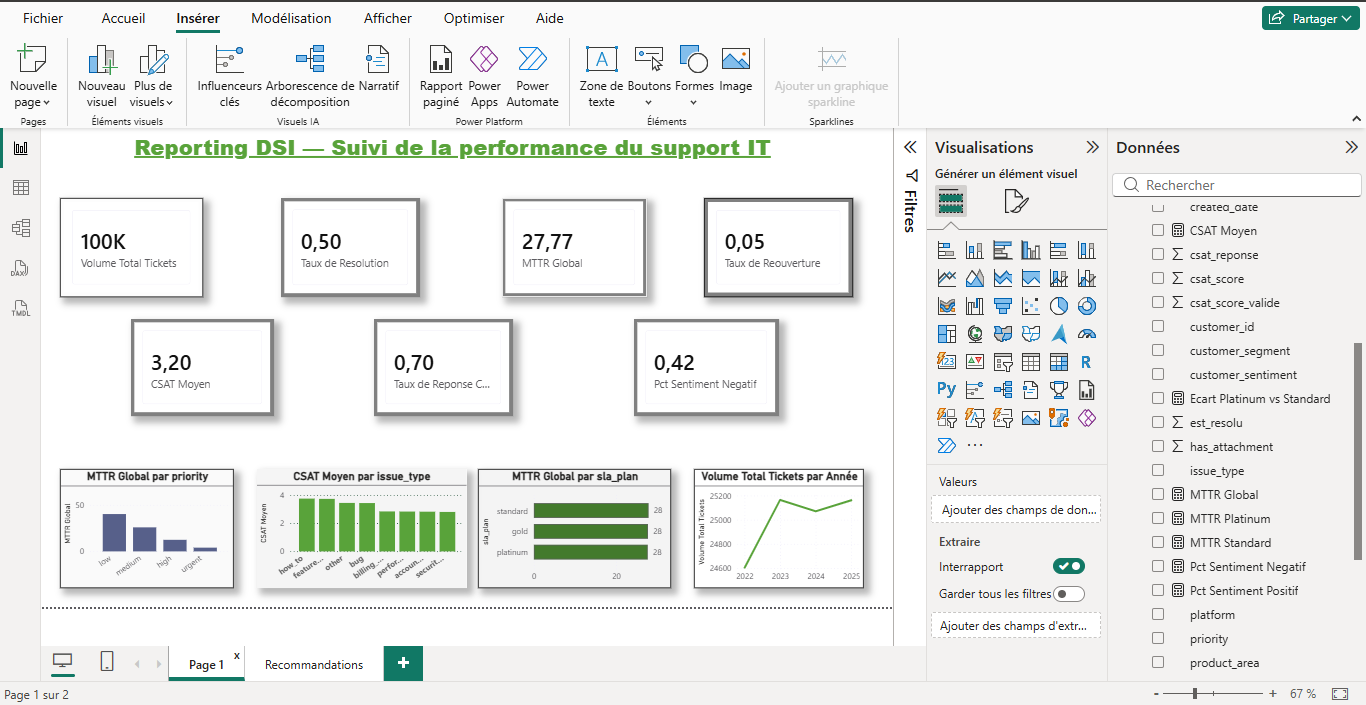

The page's visual inventory and layout, read from the dashboard file:
{"tool":"powerbi","page":{"name":"Page 1","canvas":[1280,720],"ordinal":0},"visuals":[{"type":"cardVisual","fields":{"Data":["Donnees.Volume Total Tickets"]},"box":[28.5,105.2,214.8,148.7],"z":0},{"type":"cardVisual","fields":{"Data":["Donnees.Taux de Resolution"]},"box":[360.6,105.2,208.8,148.7],"z":1000},{"type":"cardVisual","fields":{"Data":["Donnees.MTTR Global"]},"box":[692.6,105.2,217.8,148.7],"z":2000},{"type":"cardVisual","fields":{"Data":["Donnees.Taux de Reouverture"]},"box":[996.1,105.2,223.8,148.7],"z":3000},{"type":"cardVisual","fields":{"Data":["Donnees.CSAT Moyen"]},"box":[135.2,286.9,214.8,145.7],"z":4000},{"type":"cardVisual","fields":{"Data":["Donnees.Taux de Reponse CSAT"]},"box":[500.3,286.9,208.8,145.7],"z":5000},{"type":"cardVisual","fields":{"Data":["Donnees.Pct Sentiment Negatif"]},"box":[890.9,286.9,217.8,145.7],"z":6000},{"type":"lineStackedColumnComboChart","fields":{"Category":["Donnees.priority"],"Y":["Donnees.MTTR Global"]},"box":[28.5,512.3,261.4,178.8],"z":7000},{"type":"lineClusteredColumnComboChart","fields":{"Category":["Donnees.issue_type"],"Y":["Donnees.CSAT Moyen"]},"box":[324.5,512.3,315.5,178.8],"z":8000},{"type":"lineChart","title":"Volume Total Tickets par Année","fields":{"Category":["Calendrier1.AnneeMois.Variation.Hiérarchie de dates.Année","Calendrier1.AnneeMois.Variation.Hiérarchie de dates.Trimestre","Calendrier1.AnneeMois.Variation.Hiérarchie de dates.Mois","Calendrier1.AnneeMois.Variation.Hiérarchie de dates.Jour"],"Y":["Donnees.Volume Total Tickets"]},"box":[981,512.3,255.4,178.8],"z":9000},{"type":"clusteredBarChart","fields":{"Category":["Donnees.sla_plan"],"Y":["Donnees.MTTR Global"]},"box":[656.5,512.3,290,178.8],"z":10000},{"type":"textbox","box":[0,0,1236.4,90.1],"z":11000}]}

Visuals, with their boxes on the page's 1280x720 design canvas (x1, y1, x2, y2). These are canvas units, not pixel positions in the 1366x705 screenshot, which may show the page scaled, cropped or inside an application window:
cardVisual - Donnees.Volume Total Tickets: crop(28, 105, 243, 254)
cardVisual - Donnees.Taux de Resolution: crop(361, 105, 569, 254)
cardVisual - Donnees.MTTR Global: crop(693, 105, 910, 254)
cardVisual - Donnees.Taux de Reouverture: crop(996, 105, 1220, 254)
cardVisual - Donnees.CSAT Moyen: crop(135, 287, 350, 433)
cardVisual - Donnees.Taux de Reponse CSAT: crop(500, 287, 709, 433)
cardVisual - Donnees.Pct Sentiment Negatif: crop(891, 287, 1109, 433)
lineStackedColumnComboChart - Donnees.priority x Donnees.MTTR Global: crop(28, 512, 290, 691)
lineClusteredColumnComboChart - Donnees.issue_type x Donnees.CSAT Moyen: crop(324, 512, 640, 691)
"Volume Total Tickets par Année" lineChart: crop(981, 512, 1236, 691)
clusteredBarChart - Donnees.sla_plan x Donnees.MTTR Global: crop(656, 512, 946, 691)
textbox: crop(0, 0, 1236, 90)
